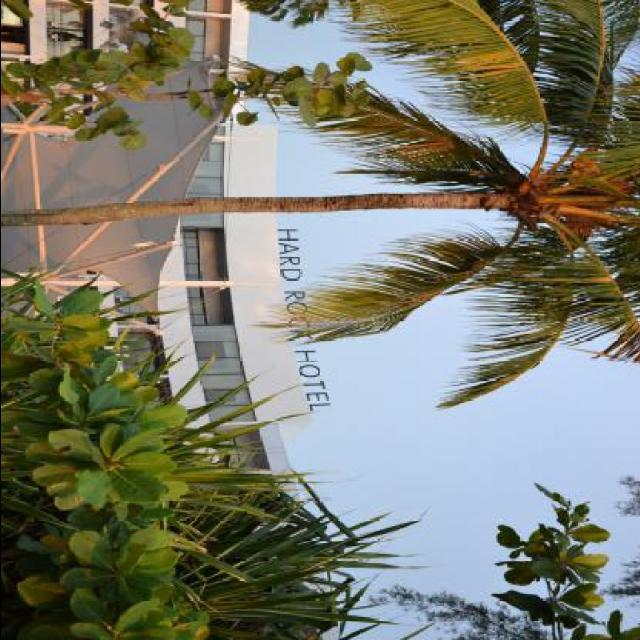Coconut: (566, 153, 602, 189)
